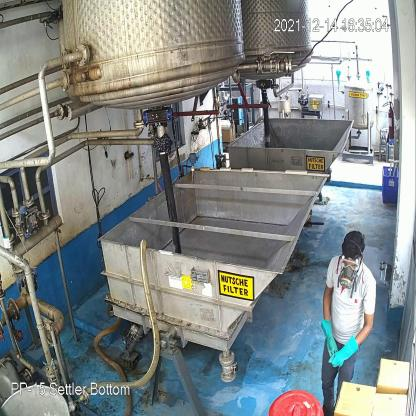goggles: (338, 257, 360, 272)
mask: (338, 264, 359, 289)
